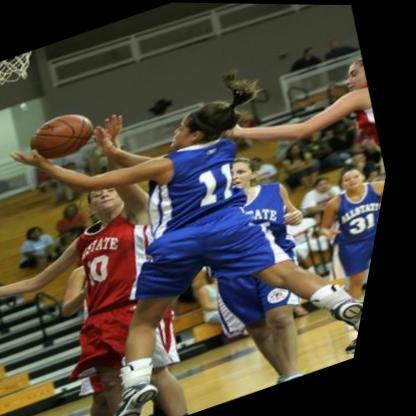basketball: (25, 105, 108, 169)
